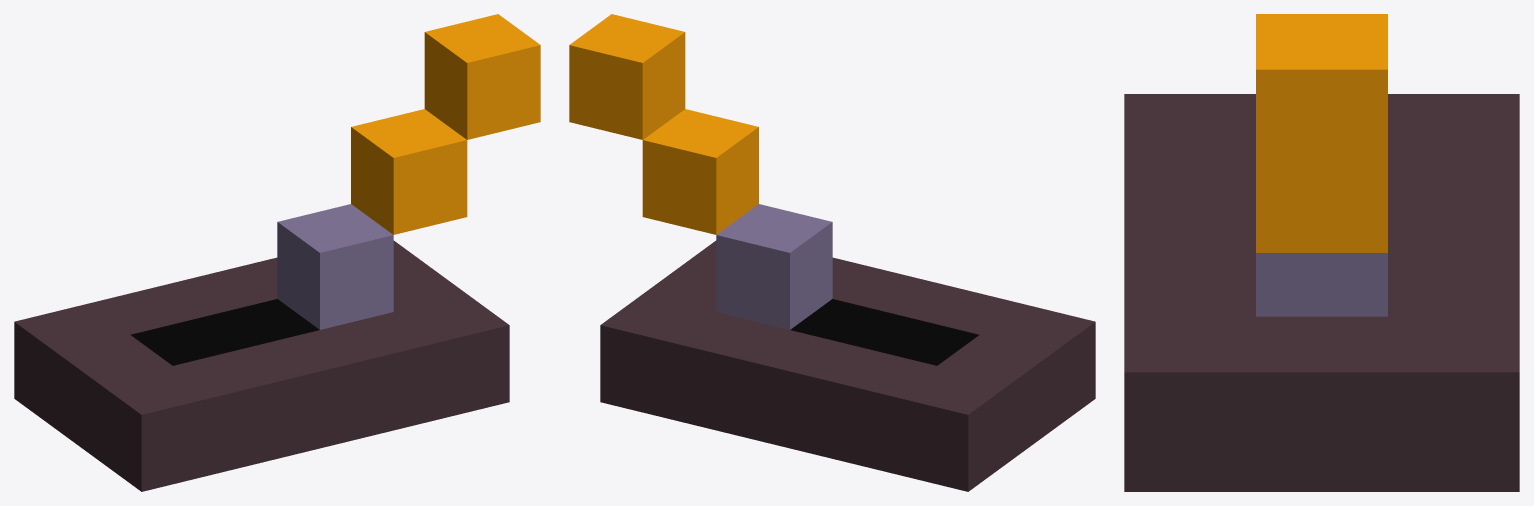
File: lever_b_b_yellow_on.obj
3 renders of one model, left to right at view 1: azimuth 30°, elevation 25°; view 2: azimuth 150°, elevation 25°; view 3: azimuth 270°, elevation 25°, orthographic. The views are drawn at different scales.
Size of the model in its own units: 0.6 by 0.4 by 0.3.
1 material, 1 textured.
